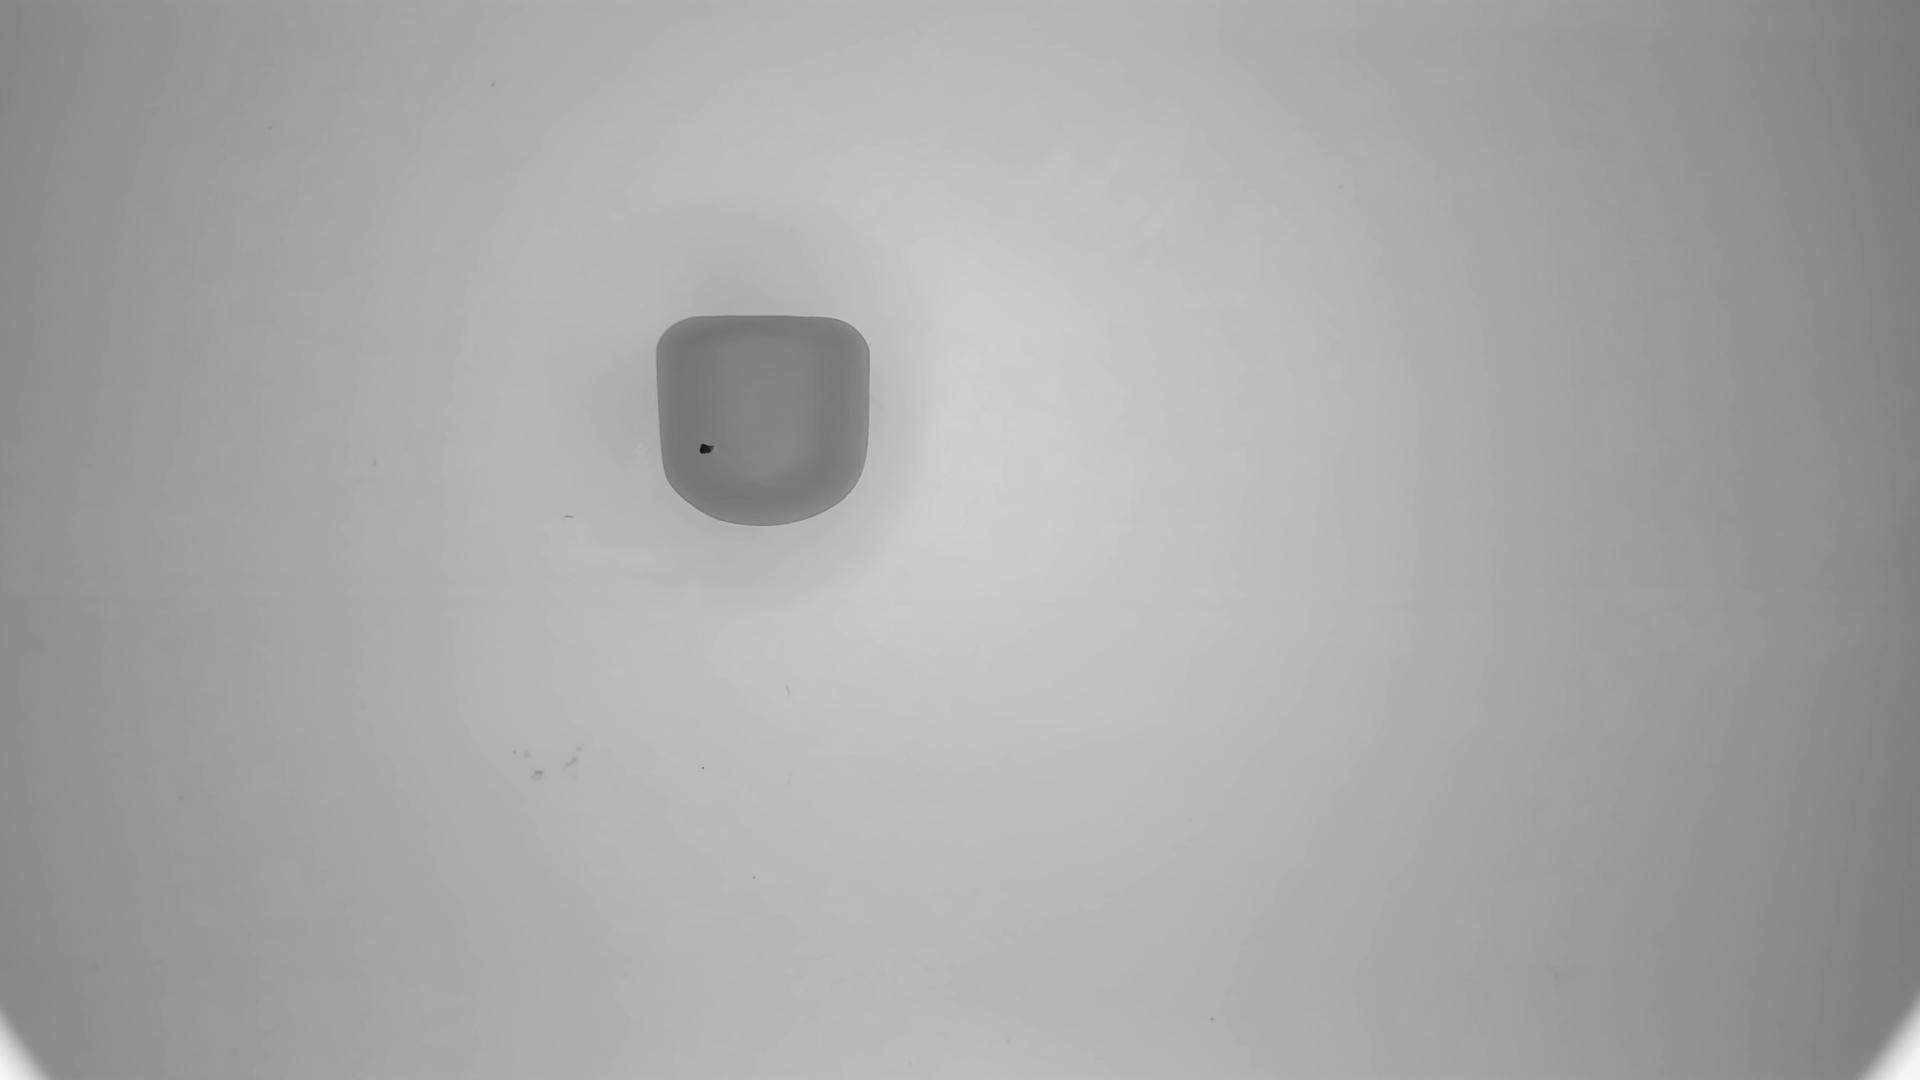abnormal: (655, 311, 878, 531)
